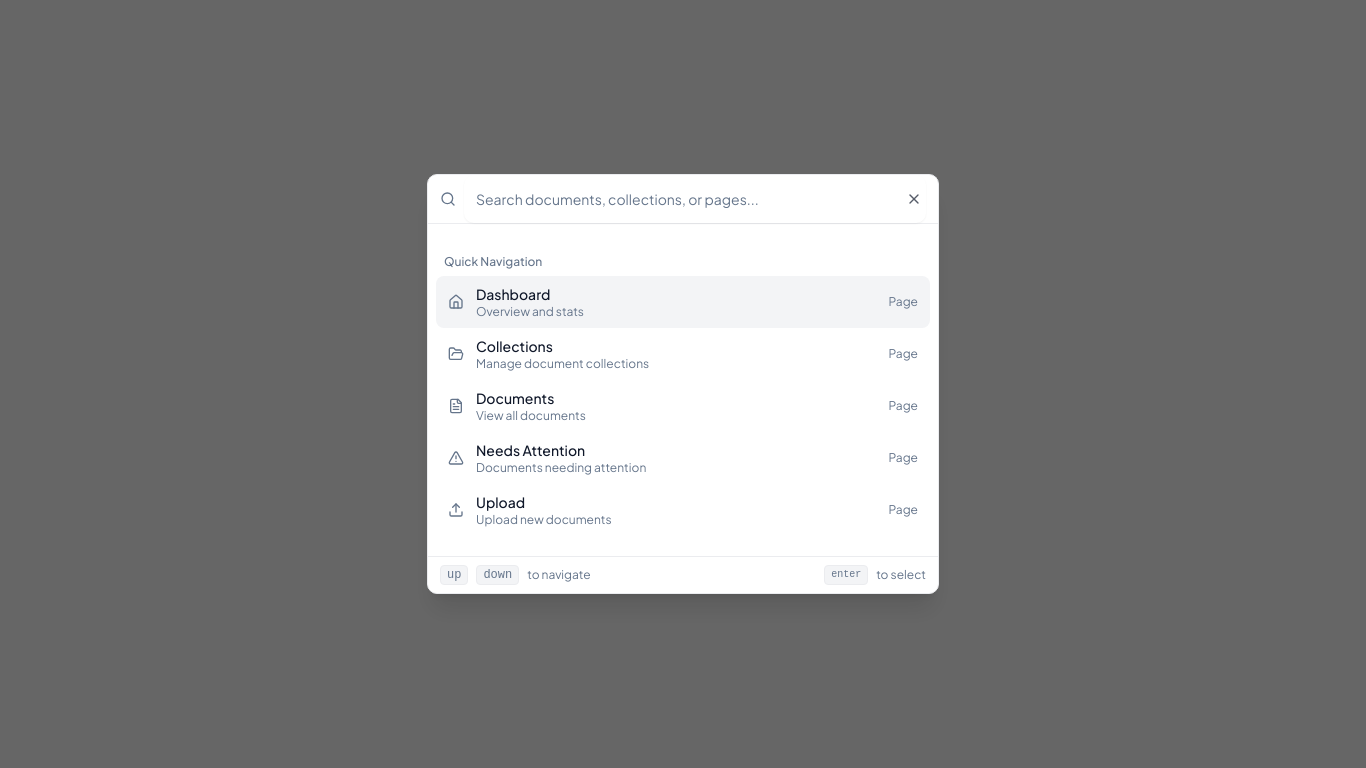
GlobalSearch › searching pages › filters page results by title
The width and height of the screenshot is (1366, 768).
Type "upload" into the field with placeholder "Search documents, collections, or pages...".
click(695, 199); type("upload")  # box [464,175,926,223]
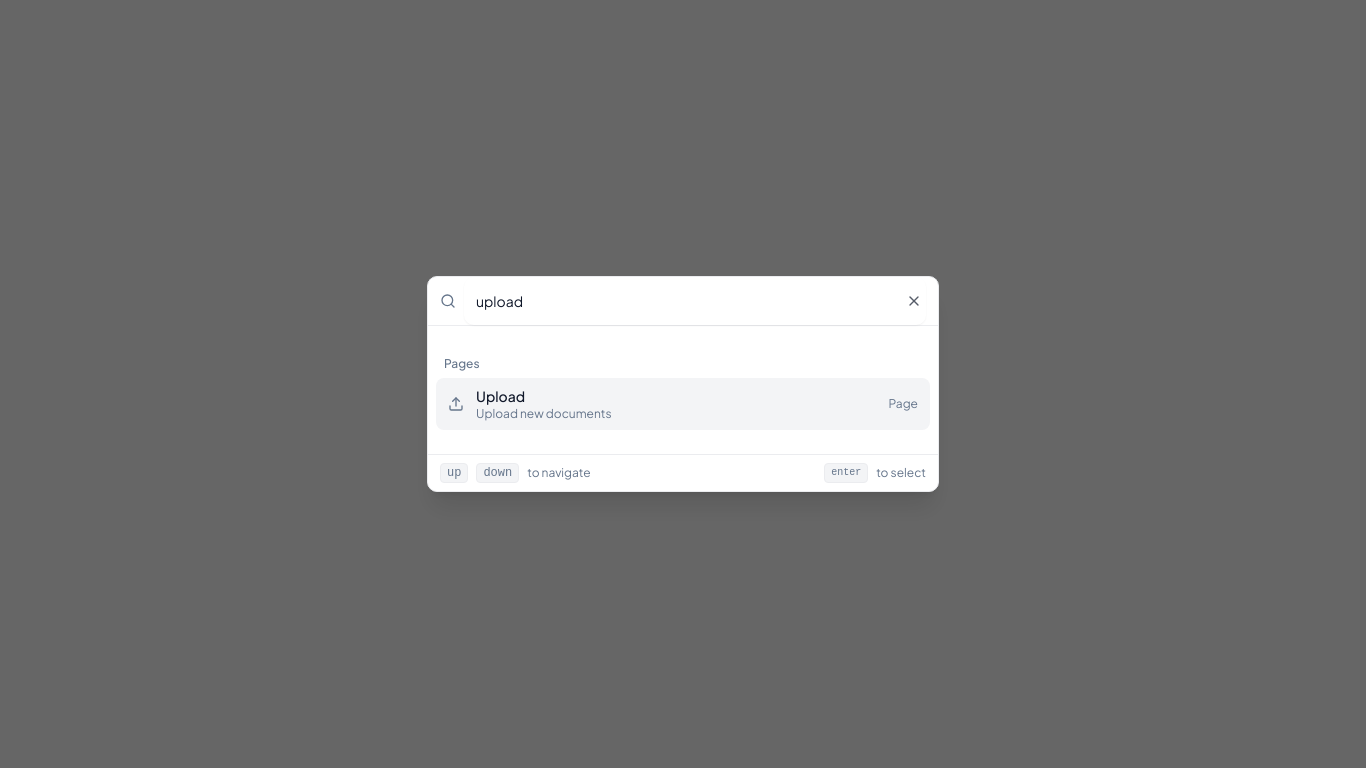
Expected: the text "Upload" is shown, [476,387,525,405]
Now the button "Dashboard" is gone
